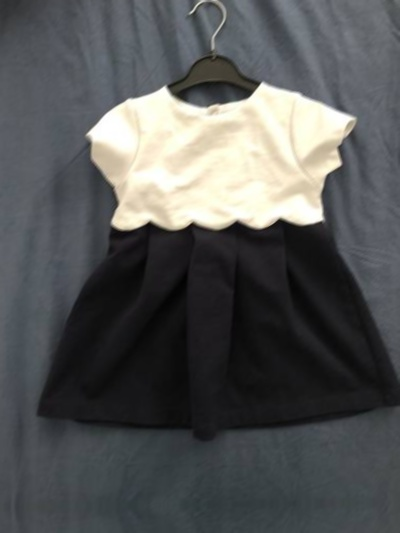Dress: (30, 58, 397, 446)
